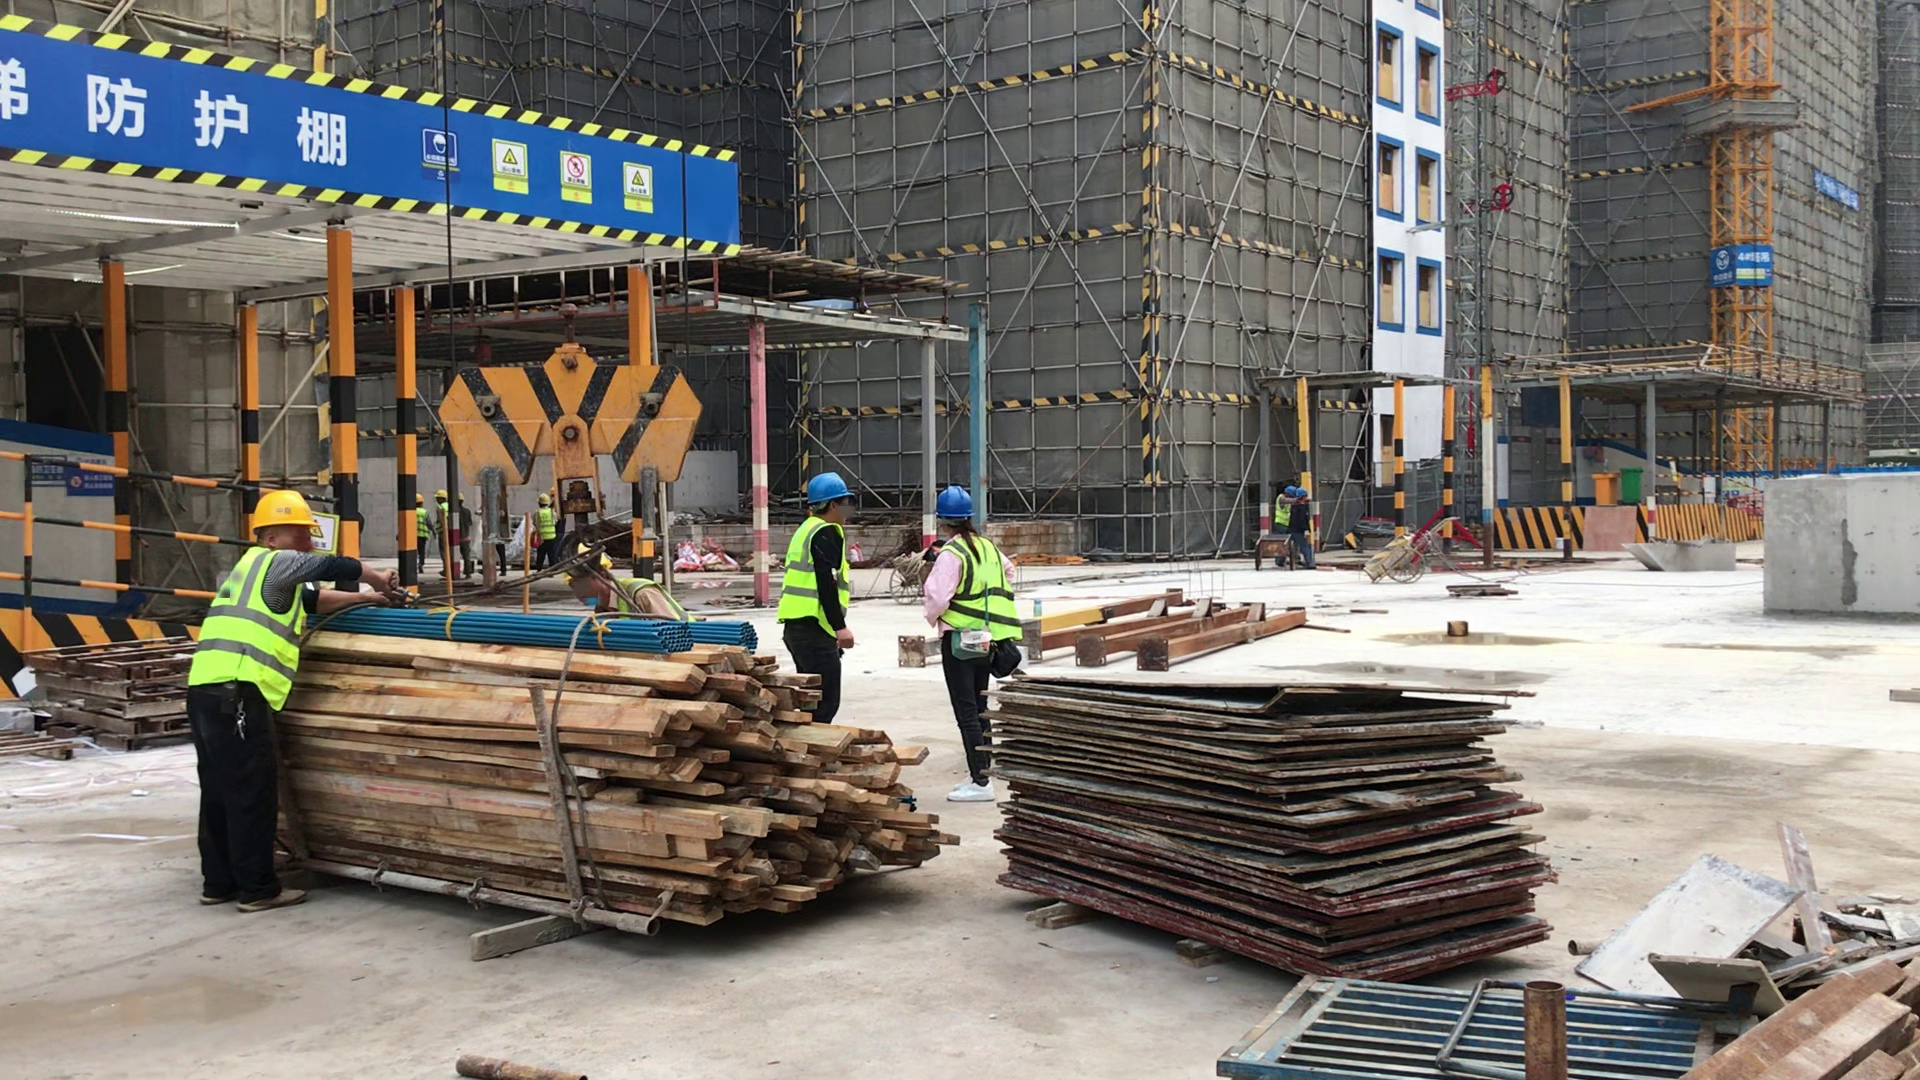board: (988, 663, 1554, 987)
handcart: (1362, 522, 1467, 590)
helmet: (247, 488, 321, 533), (805, 470, 854, 507), (933, 486, 982, 522), (536, 493, 552, 508), (1283, 485, 1297, 498), (433, 490, 446, 502), (1295, 487, 1307, 497), (414, 493, 424, 504), (457, 494, 465, 504)
hook: (435, 350, 699, 485)
hopper: (1622, 531, 1749, 572)
person: (186, 469, 317, 912), (921, 475, 1022, 806), (782, 471, 862, 715), (569, 560, 684, 622), (531, 488, 556, 570), (1292, 490, 1316, 566), (459, 490, 478, 576), (414, 492, 431, 571), (1274, 487, 1296, 535), (434, 490, 450, 555)
vest: (190, 545, 312, 715), (920, 536, 1020, 660), (781, 516, 857, 650), (615, 569, 681, 619), (532, 508, 555, 541), (434, 504, 448, 535), (417, 508, 430, 539), (1276, 497, 1290, 525)
wood: (303, 569, 932, 948)
